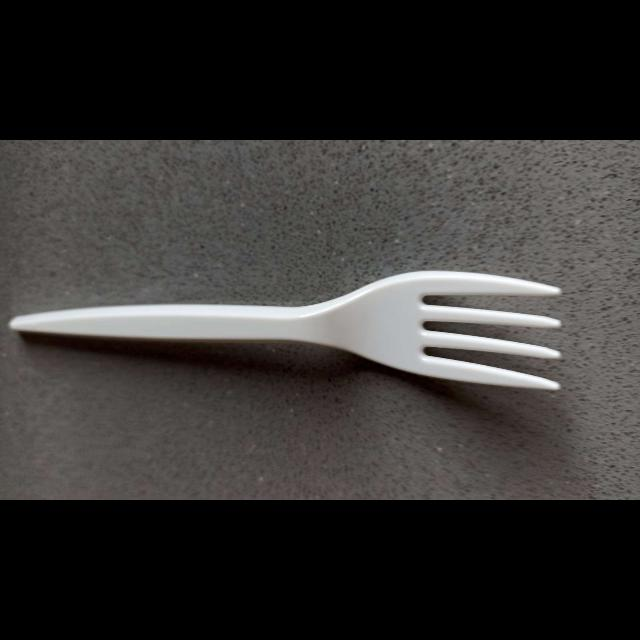plastic_cultery: (2, 269, 566, 395)
